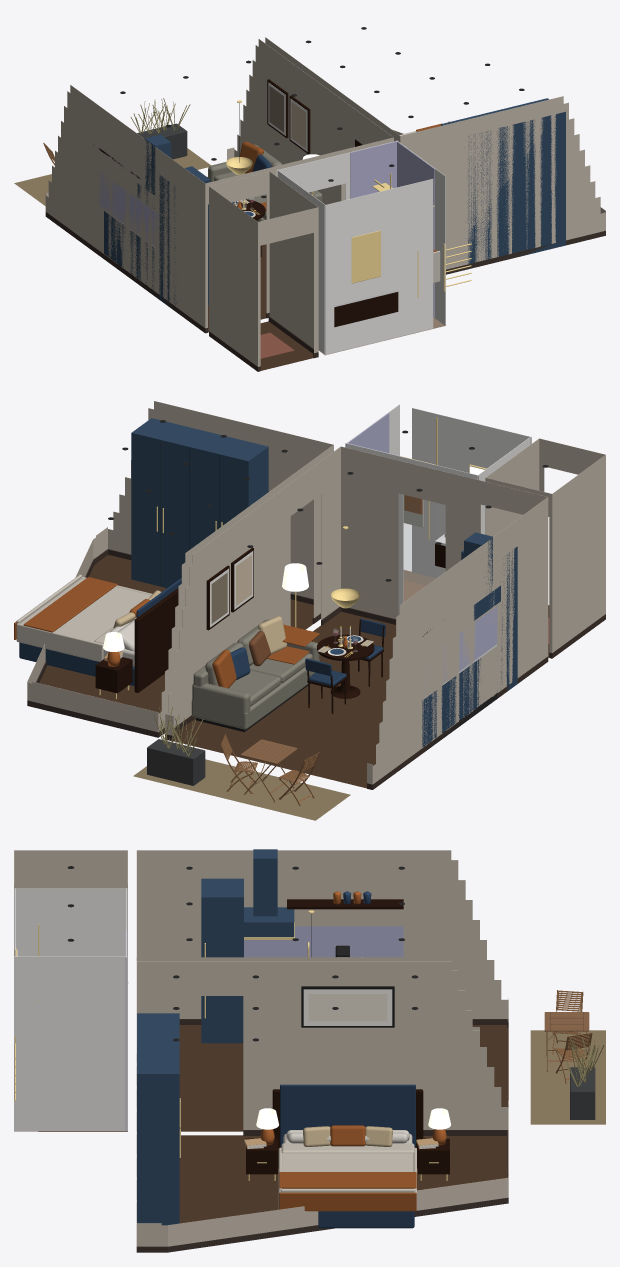
File: unit-2.B-lisboa.glb
3 renders of one model, top to bottom at view 1: azimuth 30°, elevation 25°; view 2: azimuth 150°, elevation 25°; view 3: azimuth 270°, elevation 25°, orthographic. The views are drawn at different scales.
Visible parts, largest first — view 1: int-wall, int-bathWall, int-joineryTall, int-showerWall, int-metal, int-wood, int-skirting, int-joinery, int-splash, int-hallFloor, int-deck, int-outdoor (+7 smaller); view 2: int-wall, int-floor, int-joineryTall, int-bathWall, int-wood, int-sofa, int-deck, int-duvet, int-joinery, int-skirting, int-glass, int-outdoor (+21 smaller); view 3: int-wall, int-bathWall, int-floor, int-joineryTall, int-headboard, int-deck, int-bedThrow, int-duvet, int-splash, int-wood, int-joinery, int-skirting (+14 smaller).
Boxes of the visible parts, bbox=[...] form: int-wall: bbox=[45, 37, 605, 366]; int-bathWall: bbox=[276, 140, 445, 355]; int-joineryTall: bbox=[159, 98, 565, 310]; int-showerWall: bbox=[350, 140, 434, 317]; int-metal: bbox=[157, 100, 471, 297]; int-wood: bbox=[94, 79, 398, 327]; int-skirting: bbox=[45, 212, 605, 371]; int-joinery: bbox=[104, 134, 171, 288]; int-splash: bbox=[98, 172, 159, 245]; int-hallFloor: bbox=[260, 321, 313, 370]; int-deck: bbox=[14, 148, 210, 205]; int-outdoor: bbox=[137, 123, 187, 159]; int-wall: bbox=[27, 401, 605, 784]; int-floor: bbox=[39, 555, 395, 788]; int-joineryTall: bbox=[131, 418, 517, 690]; int-bathWall: bbox=[345, 404, 531, 614]; int-wood: bbox=[95, 543, 445, 698]; int-sofa: bbox=[191, 619, 319, 729]; int-deck: bbox=[133, 759, 350, 820]; int-duvet: bbox=[16, 574, 152, 661]; int-joinery: bbox=[422, 532, 500, 746]; int-skirting: bbox=[27, 549, 605, 789]; int-glass: bbox=[404, 495, 436, 585]; int-outdoor: bbox=[147, 739, 205, 785]; int-wall: bbox=[14, 850, 508, 1246]; int-bathWall: bbox=[14, 888, 127, 1131]; int-floor: bbox=[179, 1025, 508, 1223]; int-joineryTall: bbox=[137, 878, 243, 1225]; int-headboard: bbox=[280, 1084, 415, 1228]; int-deck: bbox=[530, 1030, 605, 1124]; int-bedThrow: bbox=[279, 1172, 416, 1211]; int-duvet: bbox=[278, 1143, 416, 1209]; int-splash: bbox=[244, 926, 403, 957]; int-wood: bbox=[246, 899, 449, 1174]; int-joinery: bbox=[244, 849, 294, 937]; int-skirting: bbox=[136, 1019, 508, 1252].
Bounding box in the file's own units: 7.52 × 2.8 × 8.26.
